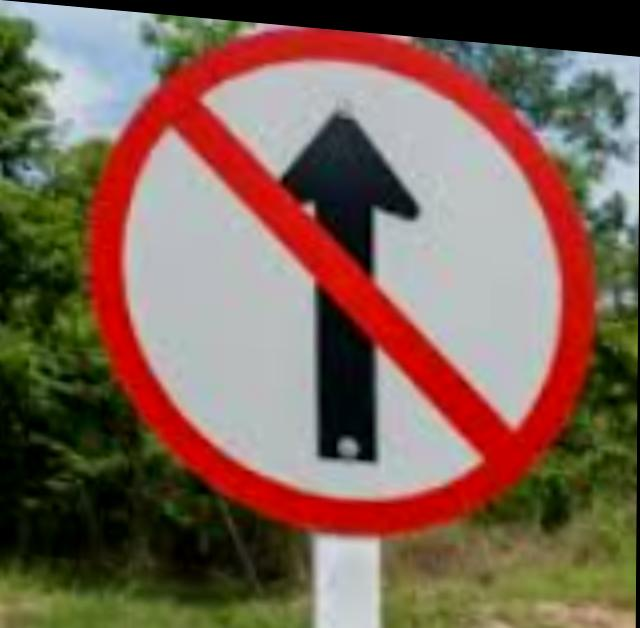not_go_straight: (53, 4, 600, 538)
